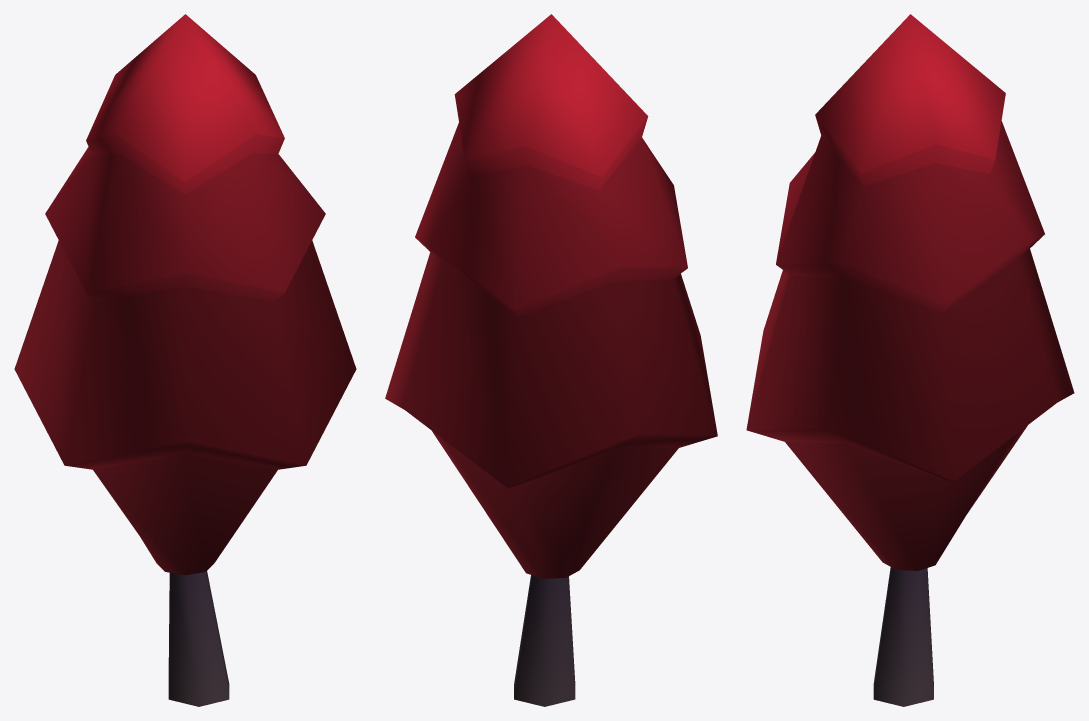
The model's file is TreeDiamondA.fbx.
The picture shows the model from 3 angles, left to right: view 1: azimuth 30°, elevation 25°; view 2: azimuth 150°, elevation 25°; view 3: azimuth 270°, elevation 25°; orthographic projection.
Visible parts, largest first — view 1: TreeDiamondA; view 2: TreeDiamondA; view 3: TreeDiamondA.
Part boxes in pixels (left/top/right/bottom): TreeDiamondA: left=14, top=14, right=356, bottom=706; TreeDiamondA: left=385, top=14, right=717, bottom=706; TreeDiamondA: left=746, top=14, right=1074, bottom=706.
Bounding box in the file's own units: 68.25 × 155 × 68.25.
